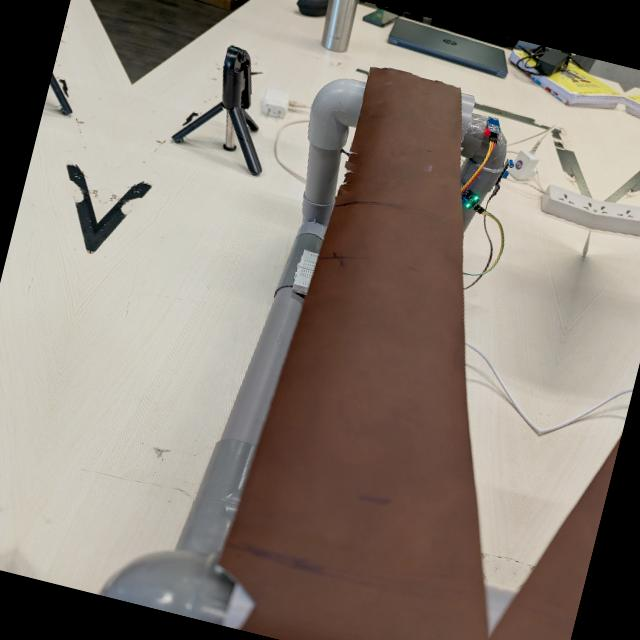edge_damage: (327, 138, 367, 201)
